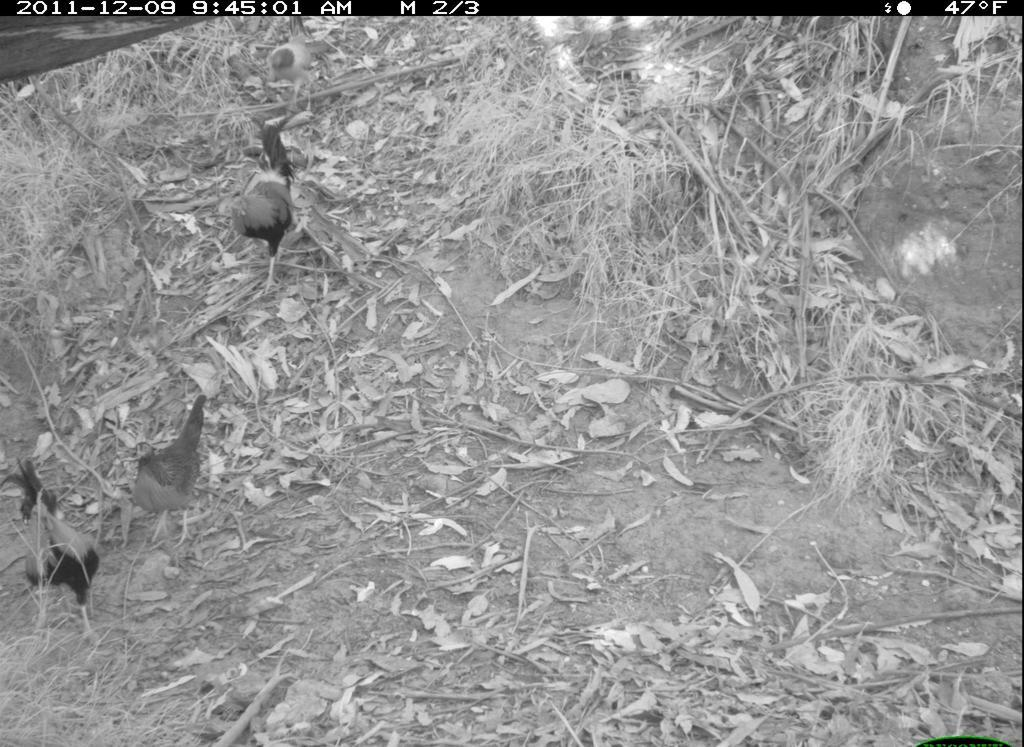bird: (1, 443, 118, 655)
